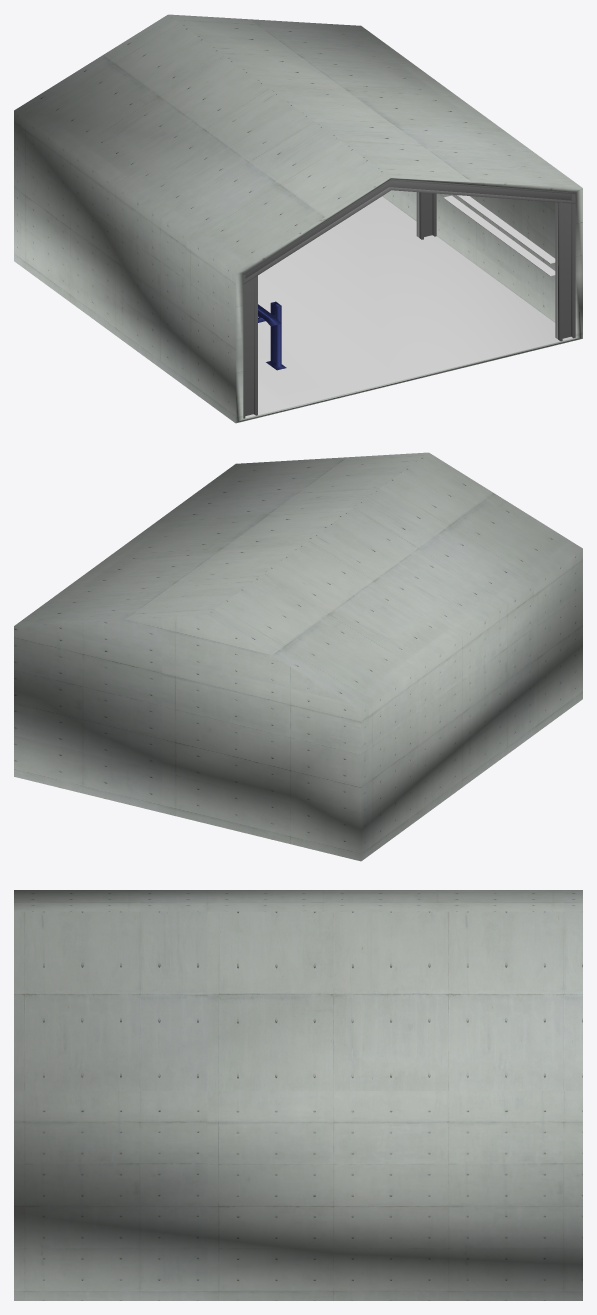
File: TalliBiggerDrive.fbx
3 views of the same model, one above another, from view 1: azimuth 30°, elevation 25°; view 2: azimuth 150°, elevation 25°; view 3: azimuth 270°, elevation 25° (orthographic). The views are drawn at different scales.
Parts seen in each view (by area): view 1: Cube, Cube.012, Cube.007, Cube.001, Cube.009, Cube.006; view 2: Cube; view 3: Cube.
Boxes of the visible parts, x1,y1,x2,y2 form: Cube: (14, 14, 582, 423); Cube.012: (243, 179, 575, 418); Cube.007: (443, 195, 555, 276); Cube.001: (258, 301, 286, 370); Cube.009: (416, 192, 436, 239); Cube.006: (456, 195, 555, 263); Cube: (14, 452, 582, 861); Cube: (14, 890, 582, 1300).
Size of the model in its own units: 18.87 by 10.86 by 20.87.
